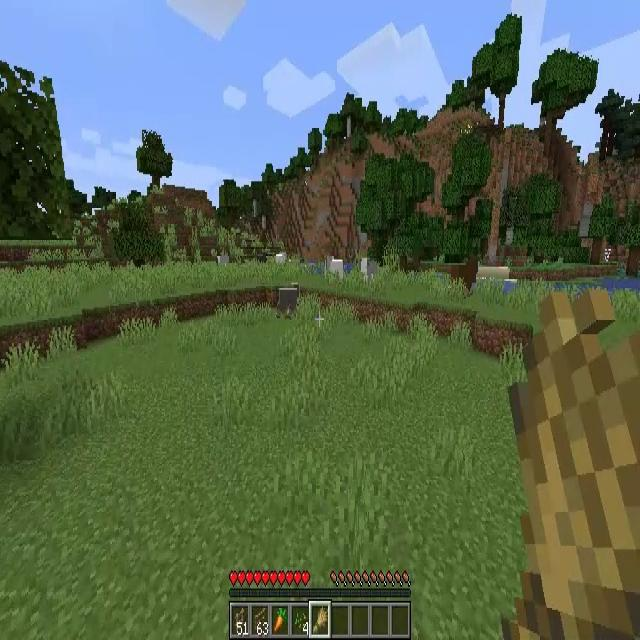sheep: (277, 285, 300, 321), (361, 257, 378, 287), (326, 256, 343, 284), (275, 253, 289, 271), (217, 256, 230, 272)
